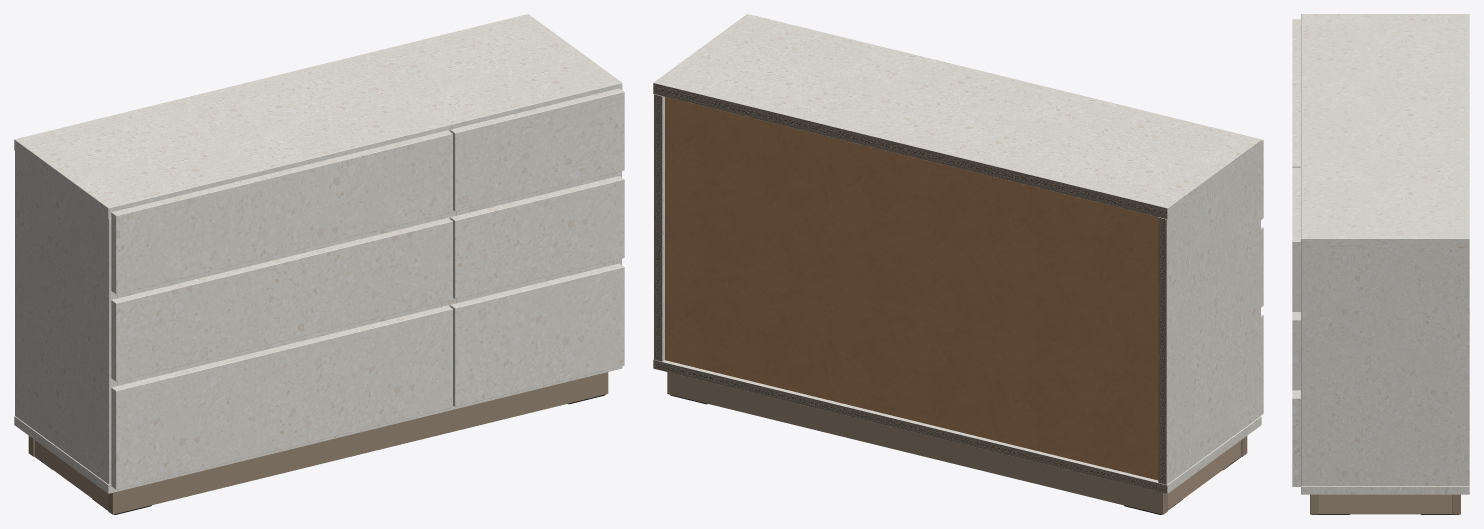
The picture shows the model from 3 angles, left to right: view 1: azimuth 30°, elevation 25°; view 2: azimuth 150°, elevation 25°; view 3: azimuth 270°, elevation 25°; orthographic projection. The views are drawn at different scales.
Parts seen in each view (by area): view 1: 3GC1D_ZZ725T; view 2: 3GC1D_ZZ725T; view 3: 3GC1D_ZZ725T.
Part boxes in pixels (<box>): 3GC1D_ZZ725T: <box>14,14,624,514</box>; 3GC1D_ZZ725T: <box>653,14,1263,514</box>; 3GC1D_ZZ725T: <box>1292,14,1469,514</box>.
Size of the model in its own units: 1.2 by 0.699 by 0.4.
10 materials, 5 textured.
